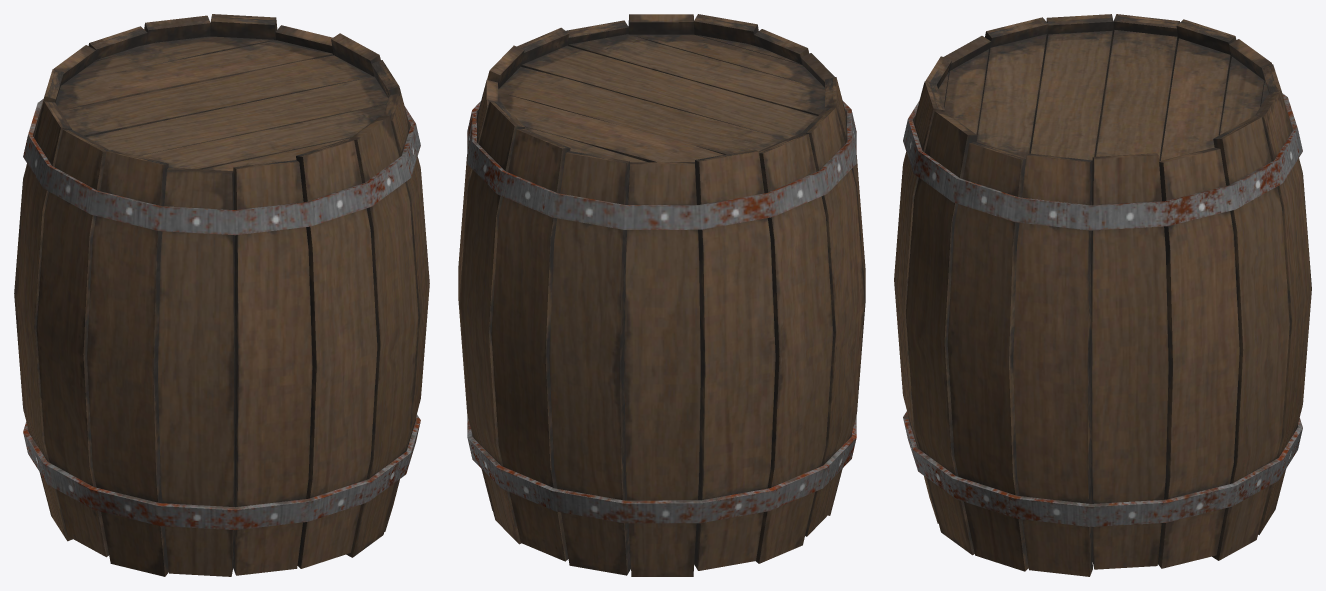
The model's file is WoodenBarrel2.obj.
The picture shows the model from 3 angles, left to right: view 1: azimuth 30°, elevation 25°; view 2: azimuth 150°, elevation 25°; view 3: azimuth 270°, elevation 25°; orthographic projection.
Parts seen in each view (by area): view 1: WoodenBarrel_2; view 2: WoodenBarrel_2; view 3: WoodenBarrel_2.
Part boxes in pixels (bbox=[...]): WoodenBarrel_2: bbox=[14, 14, 429, 576]; WoodenBarrel_2: bbox=[458, 14, 865, 576]; WoodenBarrel_2: bbox=[894, 14, 1311, 576].
Size of the model in its own units: 0.8758 by 0.9826 by 0.8758.
Materials: 1 (1 with a texture image).
